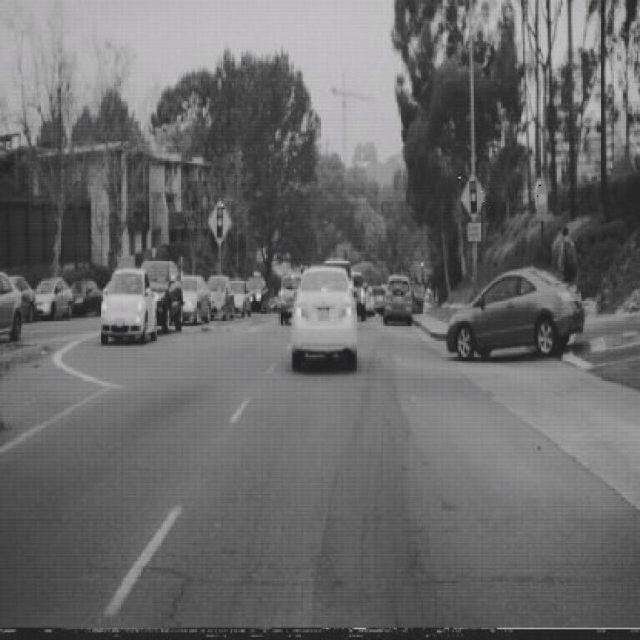signalAhead: (458, 172, 486, 220), (208, 195, 232, 245)
stop: (534, 177, 549, 222)
